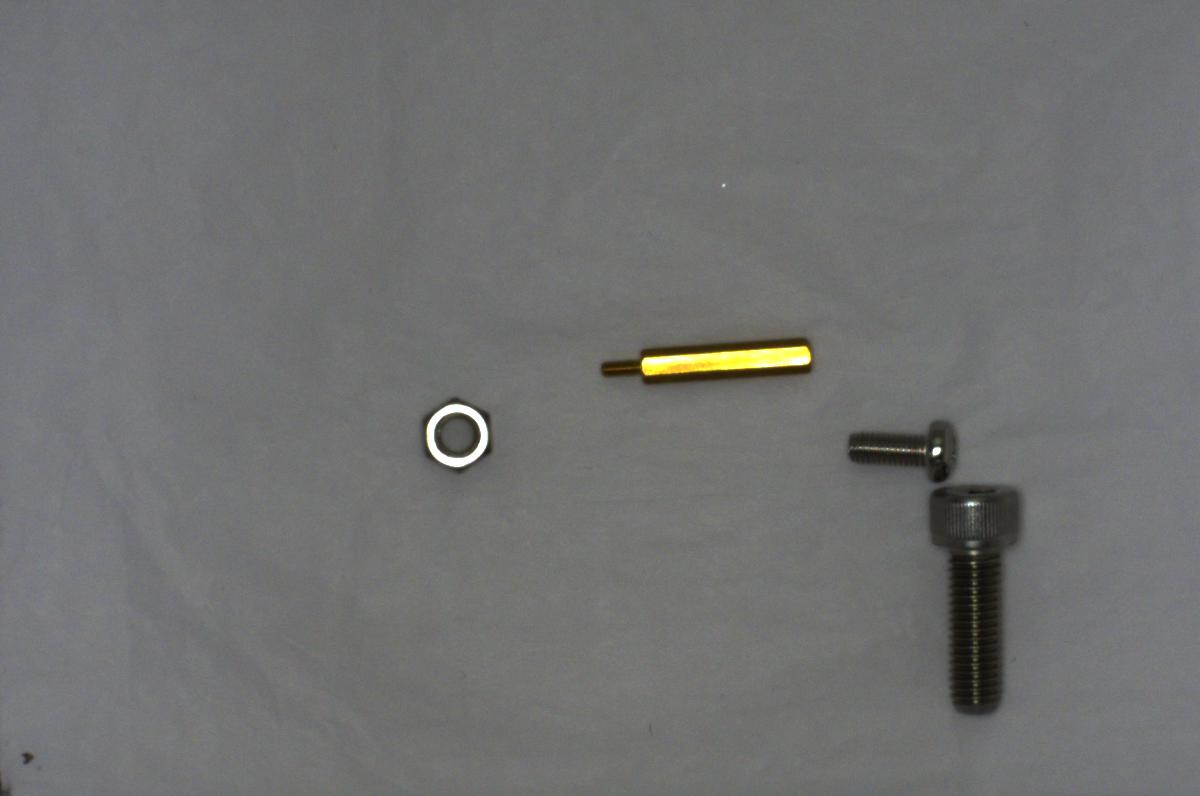Hexagon nut: (411, 389, 505, 486)
Hexagon pillar: (594, 329, 819, 389)
Hexagon screw: (915, 478, 1032, 705)
Round head screw: (832, 410, 961, 487)
